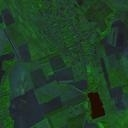alloviz: (85, 90, 106, 120)
